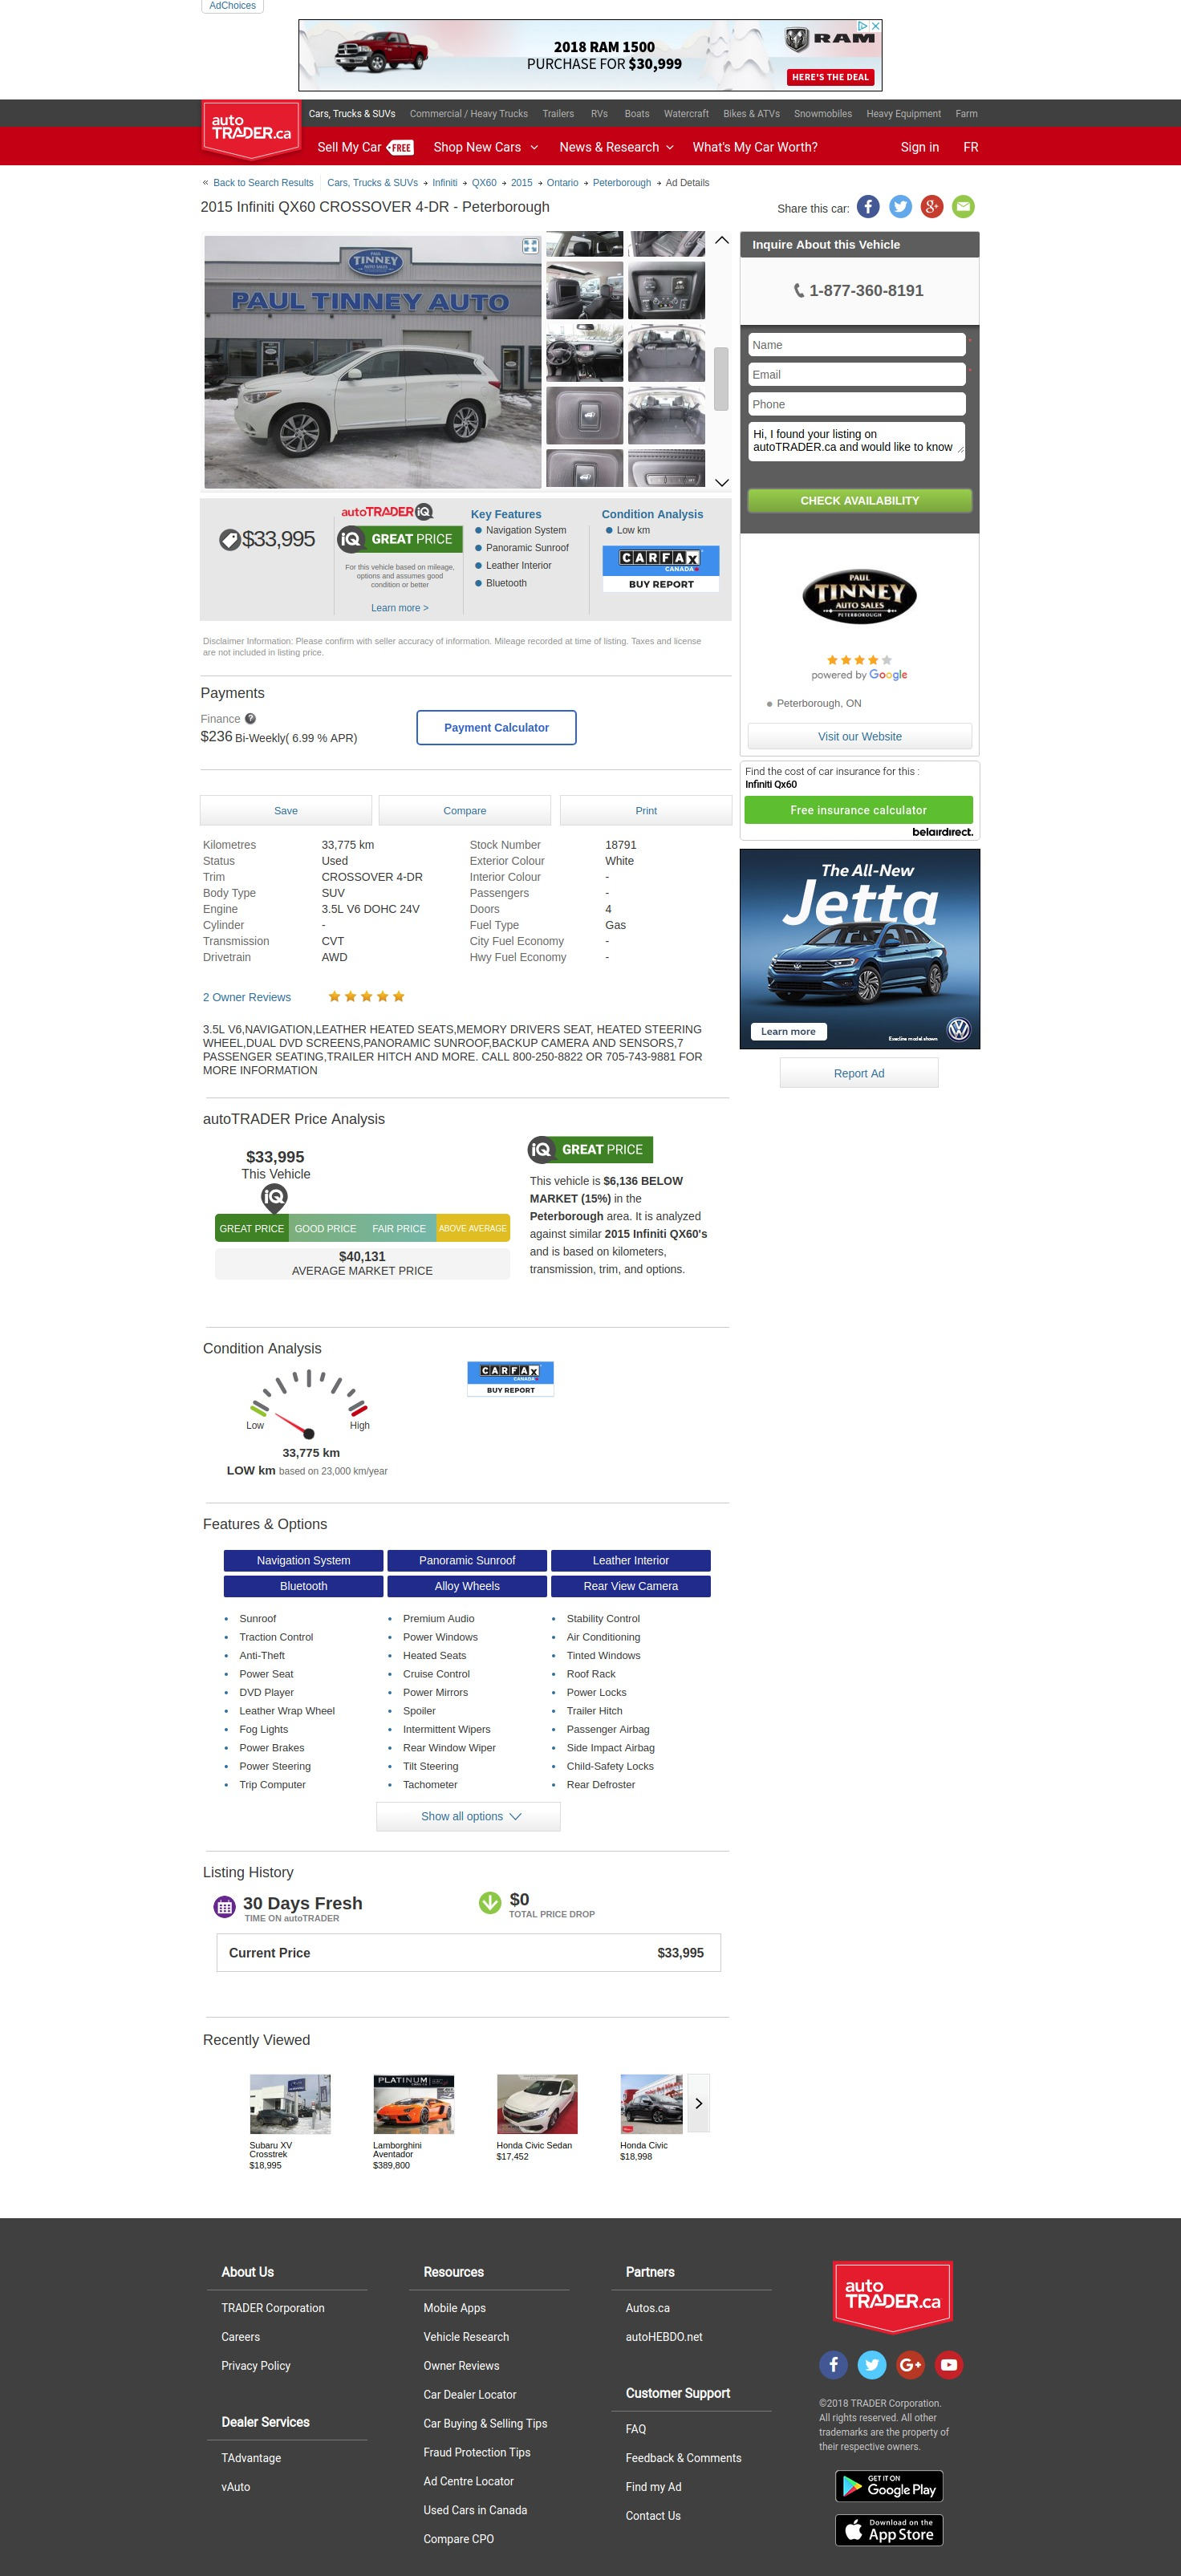car: (715, 478, 731, 488)
